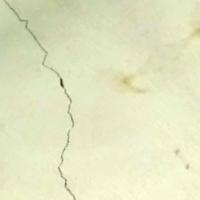crack: (4, 3, 87, 199)
